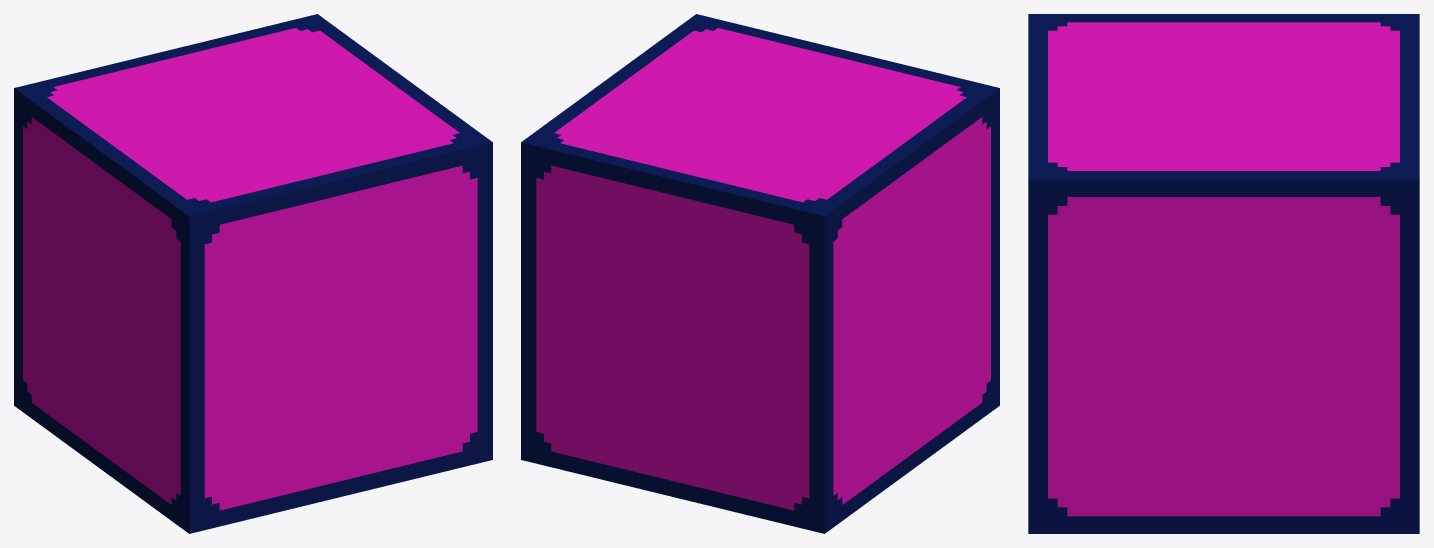
Rendered from Wall_Cube.obj.
3 renders of one model, left to right at view 1: azimuth 30°, elevation 25°; view 2: azimuth 150°, elevation 25°; view 3: azimuth 270°, elevation 25°, orthographic. The views are drawn at different scales.
Bounding box in the file's own units: 4 × 4 × 4.
Materials: 1 (1 with a texture image).
